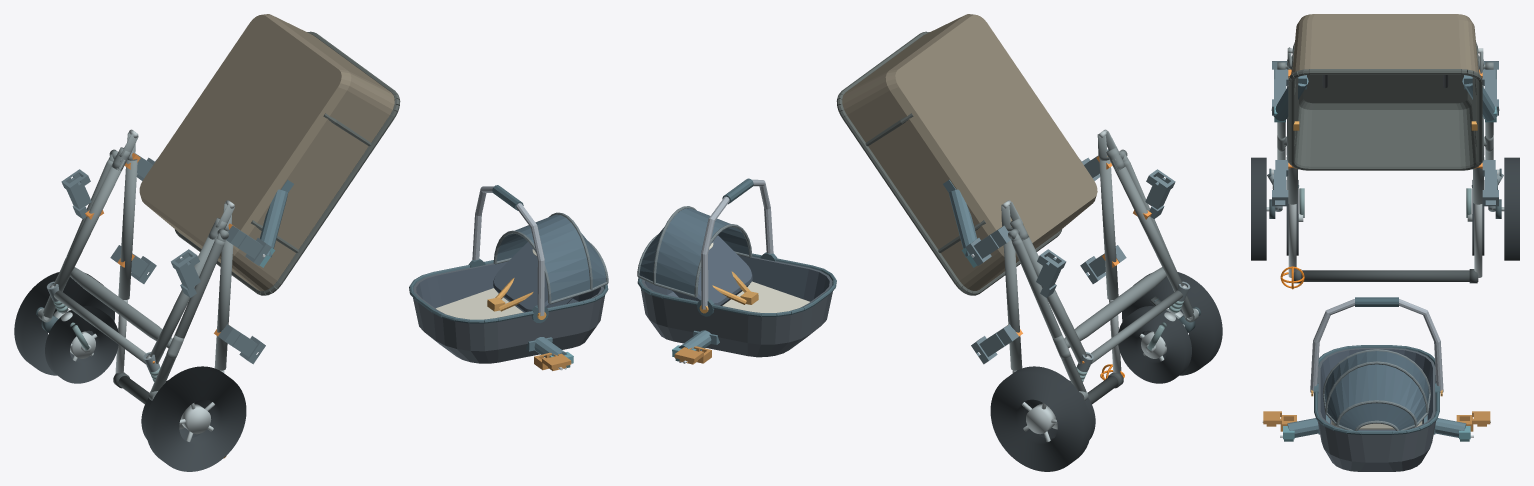
Rendered from D19_w650_state3_wheel_M.glb.
The picture shows the model from 3 angles, left to right: view 1: azimuth 30°, elevation 25°; view 2: azimuth 150°, elevation 25°; view 3: azimuth 270°, elevation 25°; orthographic projection. The views are drawn at different scales.
Visible parts, largest first — view 1: D19_Lower, D19_Upper, RL_tire.011, FR_tire.011, RR_tire.011, main_upper_1.012, main_lower_1.012, V46_rearbar.011, V46_rear_leg_-1.011, main_upper_-1.012, main_lower_-1.012, D19_Lower_Mount_M (+7 smaller); view 2: D19_Lower, D19_Upper, RR_tire.011, FL_tire.011, RL_tire.011, main_upper_-1.012, main_lower_-1.012, V46_rearbar.011, V46_rear_leg_1.011, main_upper_1.012, main_lower_1.012, D19_Lower_Mount_M (+7 smaller); view 3: D19_Lower, D19_Upper, round_handle.013, RL_tire.011, RR_tire.011, D19_Upper_Mount_H, D19_Lower_Mount_M, Universal_Cabin_Receiver_H_1, Universal_Cabin_Receiver_H_-1, handle_slider_1.013, handle_slider_-1.013, main_upper_1.012 (+7 smaller).
Boxes of the visible parts, x1,y1,x2,y2 form: D19_Lower: (139,14,400,295); D19_Upper: (409,185,608,363); RL_tire.011: (145,366,246,471); FR_tire.011: (45,306,118,383); RR_tire.011: (14,272,114,375); main_upper_1.012: (118,159,137,299); main_lower_1.012: (53,159,125,291); V46_rearbar.011: (70,267,172,348); V46_rear_leg_-1.011: (150,238,224,392); main_upper_-1.012: (214,231,233,370); main_lower_-1.012: (149,235,217,363); D19_Lower_Mount_M: (155,159,293,267); D19_Lower: (836,14,1097,295); D19_Upper: (637,178,836,357); RR_tire.011: (990,366,1091,471); FL_tire.011: (1118,306,1191,383); RL_tire.011: (1122,272,1222,375); main_upper_-1.012: (1099,159,1118,299); main_lower_-1.012: (1111,159,1183,291); V46_rearbar.011: (1064,267,1166,348); V46_rear_leg_1.011: (1012,238,1086,392); main_upper_1.012: (1003,231,1022,370); main_lower_1.012: (1019,235,1087,363); D19_Lower_Mount_M: (943,160,1081,267); D19_Lower: (1288,14,1482,170); D19_Upper: (1310,297,1443,471); round_handle.013: (1301,270,1478,281); RL_tire.011: (1251,157,1266,260); RR_tire.011: (1504,157,1519,260); D19_Upper_Mount_H: (1280,415,1473,441); D19_Lower_Mount_M: (1271,75,1499,122); Universal_Cabin_Receiver_H_1: (1482,160,1498,206); Universal_Cabin_Receiver_H_-1: (1272,160,1288,206); handle_slider_1.013: (1474,204,1482,277); handle_slider_-1.013: (1288,204,1296,277); main_upper_1.012: (1473,78,1483,204).
Size of the model in its own units: 1.63 by 1.08 by 0.781.
